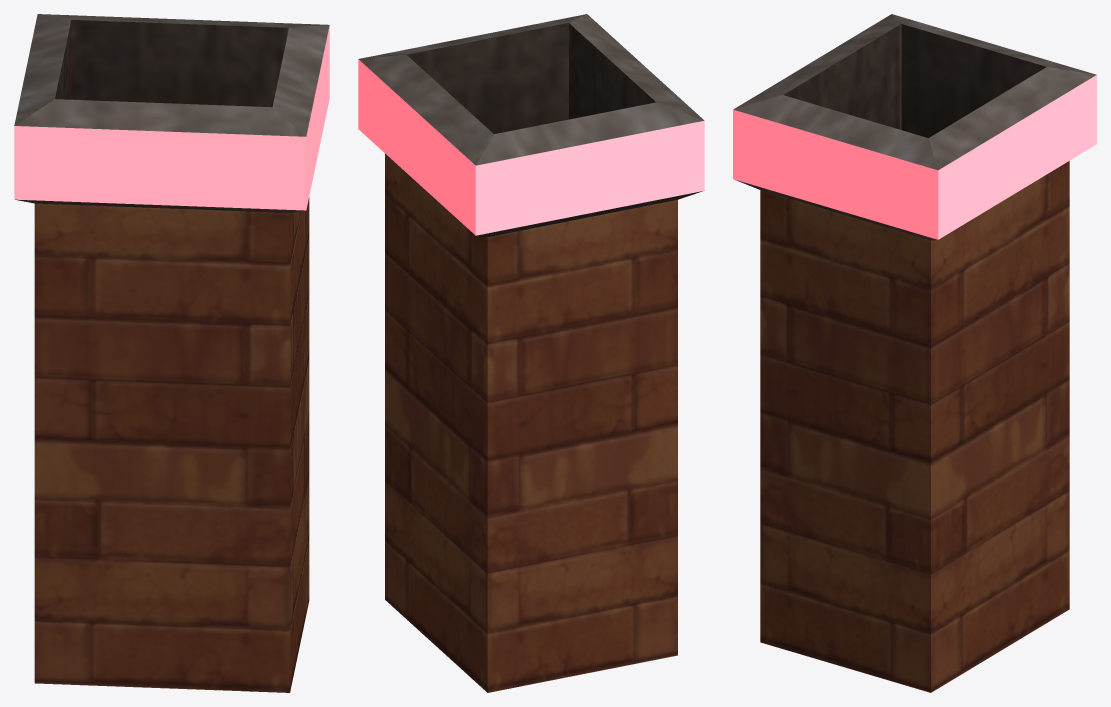
File: Chimney1.glb
3 views of the same model, side by side, from view 1: azimuth 30°, elevation 25°; view 2: azimuth 150°, elevation 25°; view 3: azimuth 270°, elevation 25° (orthographic). The views are drawn at different scales.
Parts seen in each view (by area): view 1: Chimmney.001; view 2: Chimmney.001; view 3: Chimmney.001.
Part boxes in pixels (x1,y1,x2,y2): Chimmney.001: (14, 14, 329, 692); Chimmney.001: (358, 14, 704, 692); Chimmney.001: (733, 14, 1096, 692).
Size of the model in its own units: 1.95 by 3.17 by 1.92.
3 materials, 2 textured.
